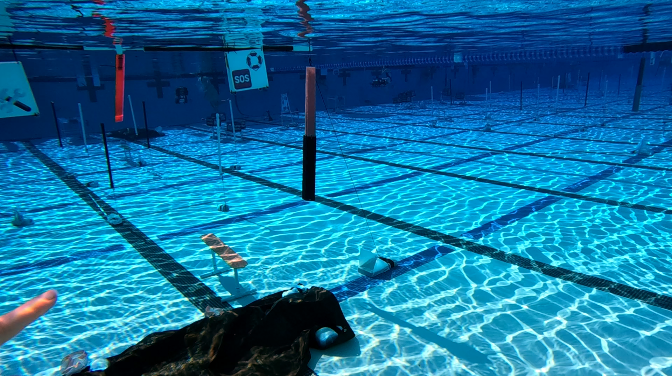pathmarker: (199, 233, 247, 268)
sandbag: (57, 285, 355, 375)
